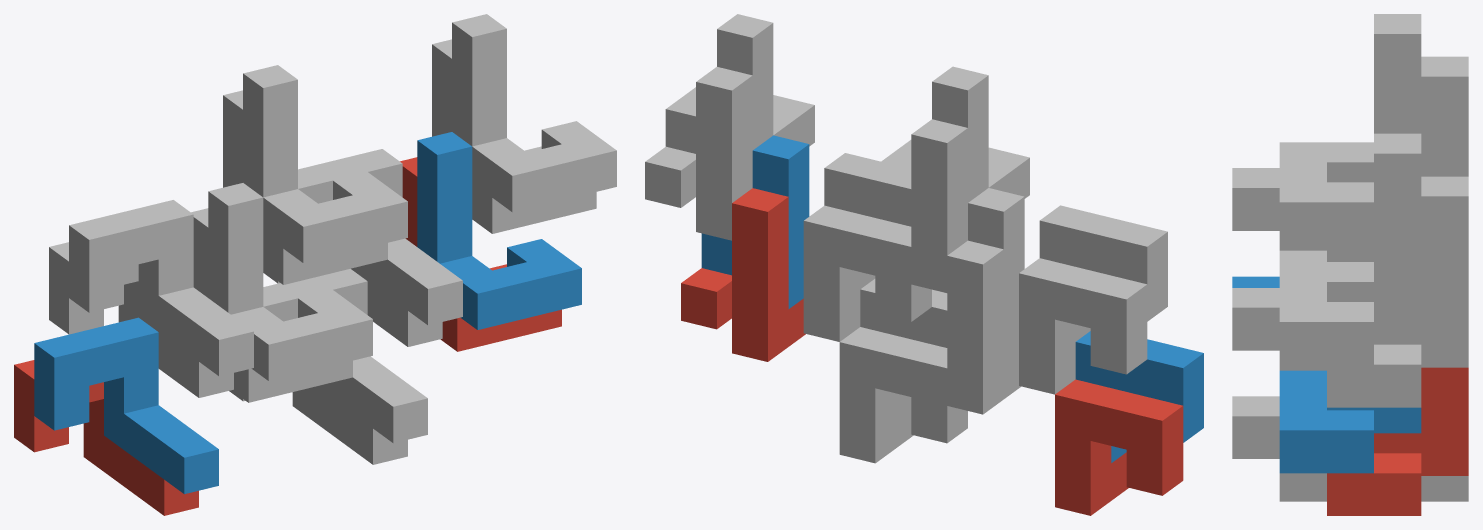
The model's file is tiling.obj.
The picture shows the model from 3 angles, left to right: view 1: azimuth 30°, elevation 25°; view 2: azimuth 150°, elevation 25°; view 3: azimuth 270°, elevation 25°; orthographic projection. The views are drawn at different scales.
Parts seen in each view (by area): view 1: copy_1_domain_4, copy_1_domain_2, copy_2_domain_8, copy_2_domain_4, copy_2_domain_2, copy_2_domain_6, copy_1_domain_8, copy_1_domain_6, copy_1_domain_1, copy_1_domain_3, copy_2_domain_7, copy_2_domain_3 (+4 smaller); view 2: copy_1_domain_1, copy_1_domain_3, copy_1_domain_5, copy_2_domain_5, copy_1_domain_7, copy_2_domain_7, copy_2_domain_1, copy_2_domain_3, copy_1_domain_4, copy_2_domain_8, copy_2_domain_4, copy_2_domain_6 (+4 smaller); view 3: copy_2_domain_8, copy_2_domain_4, copy_2_domain_7, copy_2_domain_5, copy_2_domain_6, copy_2_domain_3, copy_1_domain_4, copy_1_domain_6, copy_1_domain_8, copy_1_domain_5, copy_1_domain_2, copy_2_domain_2 (+2 smaller).
Part boxes in pixels (x1,y1,x2,y2): copy_1_domain_4: (69, 200, 253, 376); copy_1_domain_2: (34, 317, 218, 494); copy_2_domain_8: (452, 14, 616, 212); copy_2_domain_4: (243, 65, 407, 263); copy_2_domain_2: (208, 183, 372, 380); copy_2_domain_6: (417, 132, 581, 329); copy_1_domain_8: (298, 149, 462, 325); copy_1_domain_6: (263, 268, 427, 443); copy_1_domain_1: (14, 360, 198, 515); copy_1_domain_3: (49, 242, 233, 397); copy_2_domain_7: (432, 39, 596, 233); copy_2_domain_3: (223, 90, 387, 284); copy_1_domain_1: (1055, 379, 1183, 515); copy_1_domain_3: (1019, 258, 1147, 394); copy_1_domain_5: (839, 327, 967, 463); copy_2_domain_5: (681, 188, 805, 361); copy_1_domain_7: (803, 205, 931, 341); copy_2_domain_7: (645, 67, 752, 240); copy_2_domain_1: (947, 240, 1021, 414); copy_2_domain_3: (911, 119, 967, 292); copy_1_domain_4: (1039, 205, 1167, 341); copy_2_domain_8: (665, 14, 814, 153); copy_2_domain_4: (881, 66, 1029, 202); copy_2_domain_6: (701, 135, 809, 308); copy_2_domain_8: (1279, 133, 1421, 364); copy_2_domain_4: (1279, 14, 1421, 244); copy_2_domain_7: (1327, 176, 1468, 407); copy_2_domain_5: (1327, 367, 1468, 515); copy_2_domain_6: (1279, 370, 1421, 473); copy_2_domain_3: (1327, 56, 1468, 261); copy_1_domain_4: (1232, 168, 1279, 230); copy_1_domain_6: (1232, 396, 1279, 458); copy_1_domain_8: (1232, 288, 1279, 350); copy_1_domain_5: (1279, 473, 1468, 501); copy_1_domain_2: (1232, 276, 1279, 287); copy_2_domain_2: (1279, 250, 1326, 261).
Size of the model in its own units: 15 by 10 by 5.
